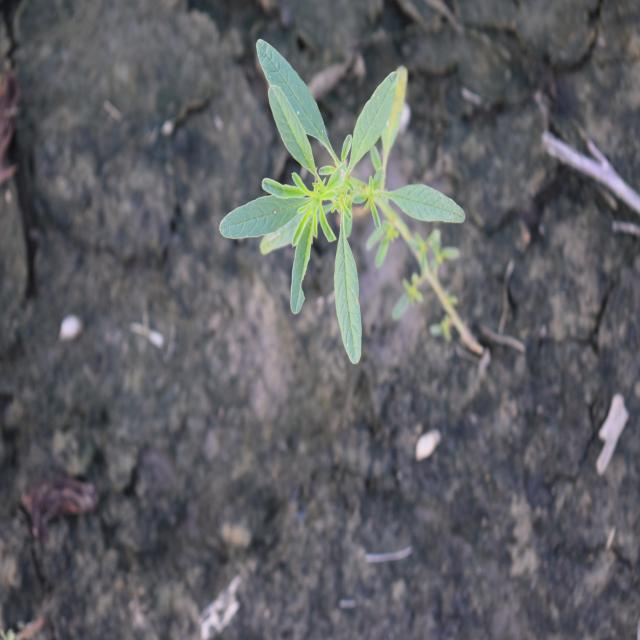Waterhemp: (218, 36, 488, 367)
